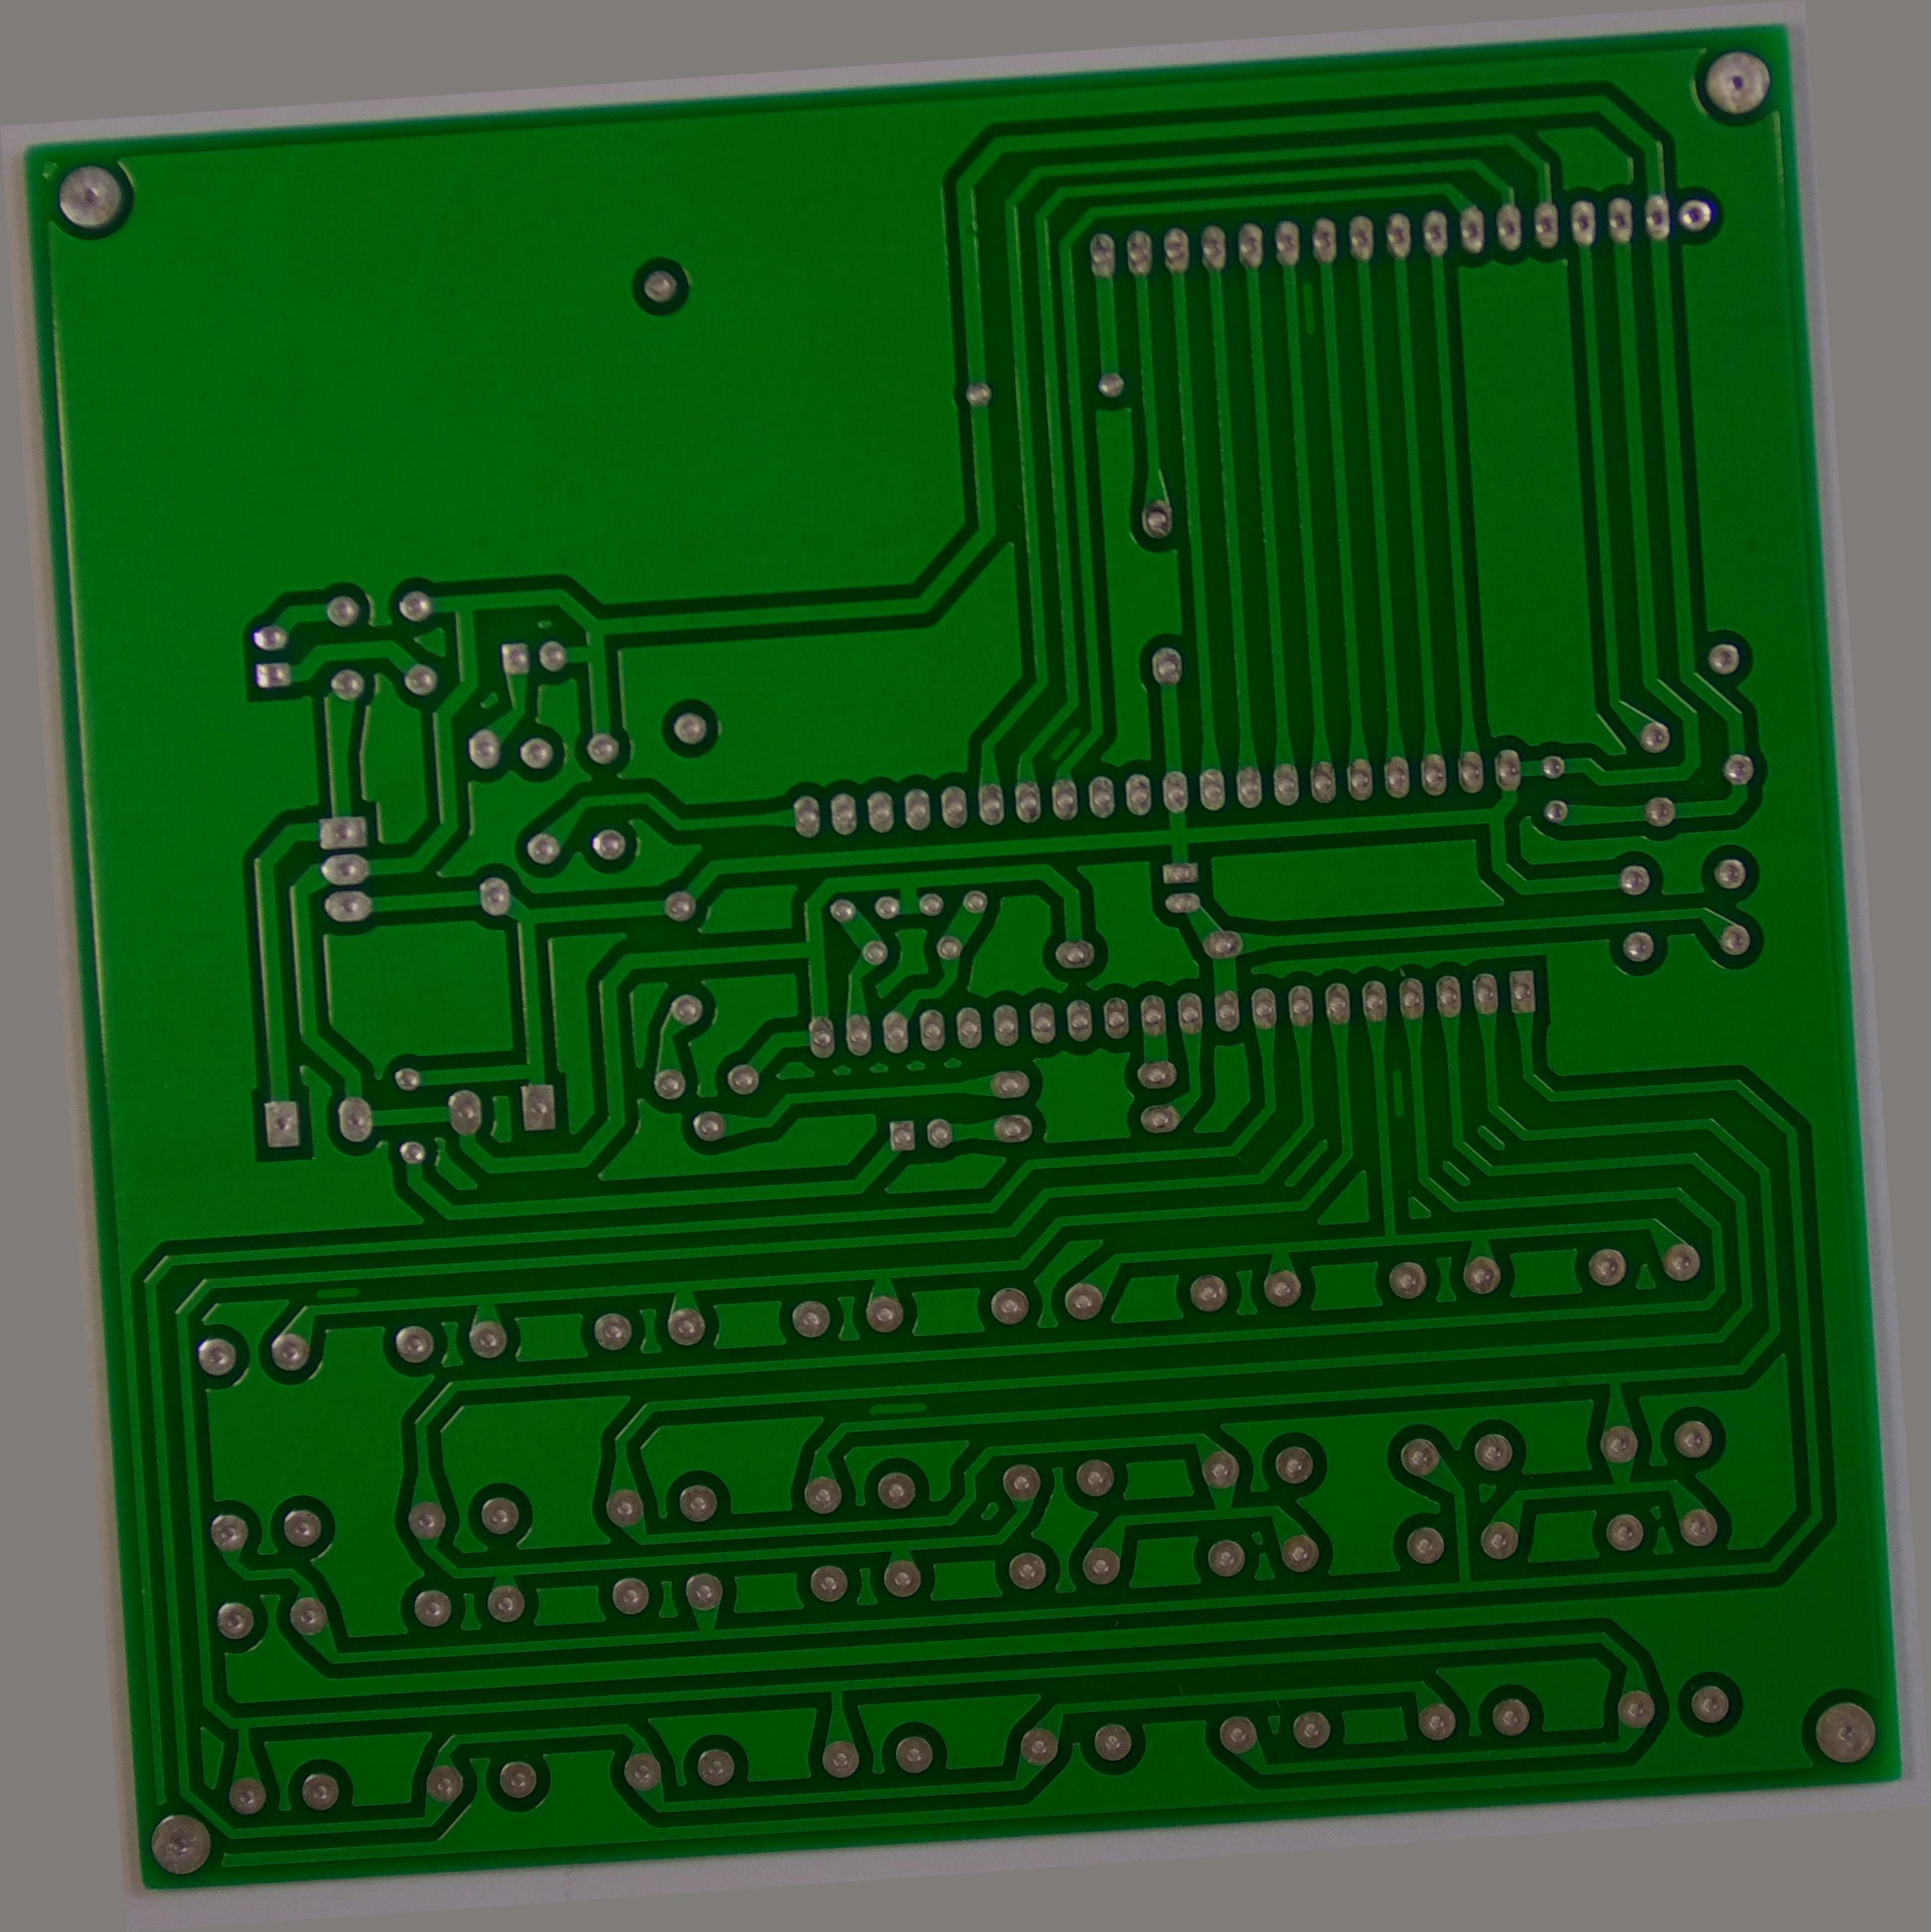spurious_copper: (1284, 272, 1328, 341), (302, 1270, 366, 1311), (861, 1391, 930, 1428), (1042, 720, 1089, 764), (1383, 1060, 1411, 1125)
